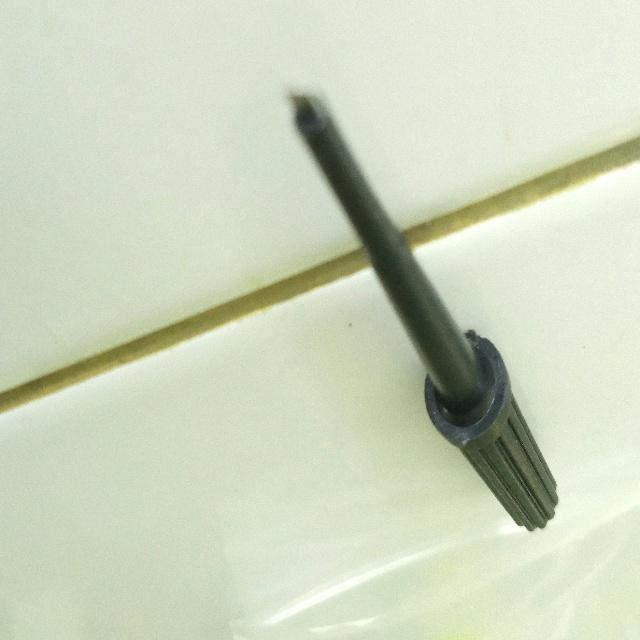Screw Driver: (269, 81, 568, 572)
